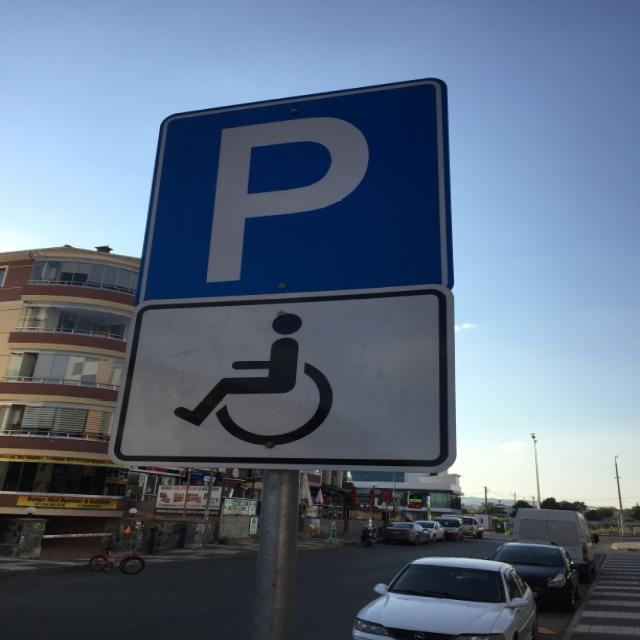park: (132, 77, 452, 289)
